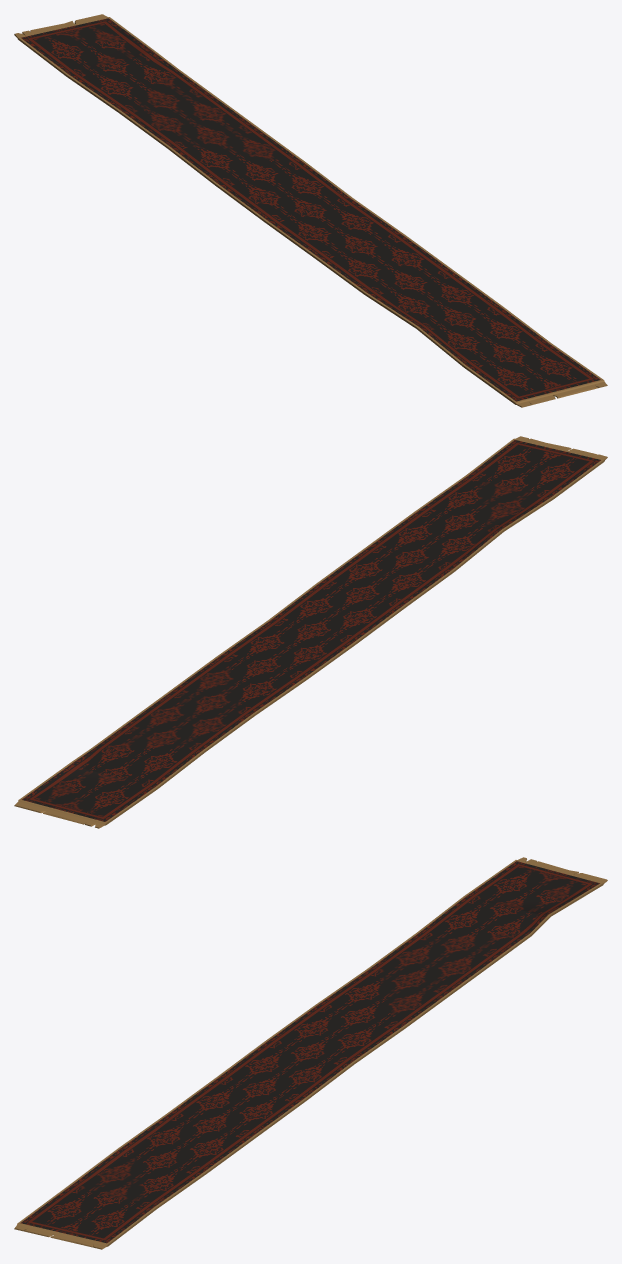
The model's file is crypt_rug_c.gltf.
3 views of the same model, one above another, from view 1: azimuth 30°, elevation 25°; view 2: azimuth 150°, elevation 25°; view 3: azimuth 330°, elevation 25° (orthographic).
Visible parts, largest first — view 1: crypt_rug_c; view 2: crypt_rug_c; view 3: crypt_rug_c.
Part boxes in pixels (x1=…): crypt_rug_c: x1=14, y1=14, x2=607, y2=407; crypt_rug_c: x1=14, y1=436, x2=607, y2=828; crypt_rug_c: x1=14, y1=857, x2=607, y2=1249.
Bounding box in the file's own units: 1.04 × 0.0542 × 9.91.
1 material, 1 textured.
